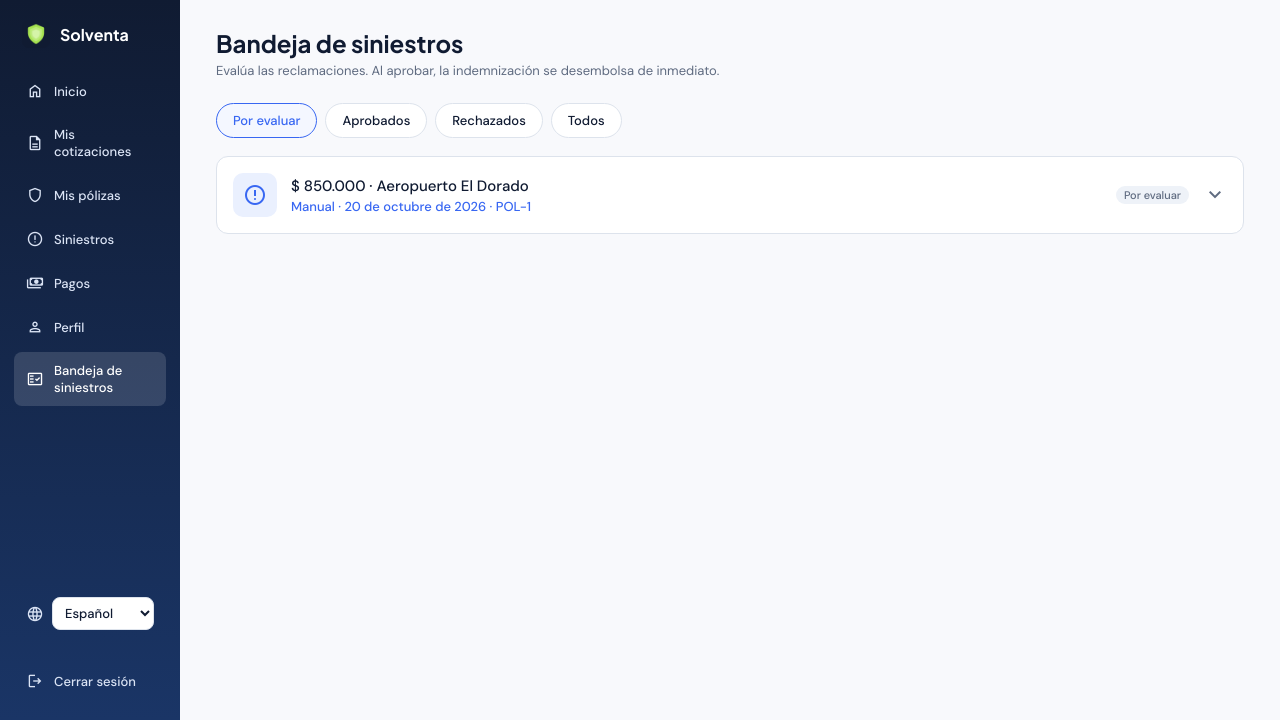
Scenario: aprueba con el monto propuesto y recarga la bandeja
Click the button "Aeropuerto El Dorado".
click(255, 195)  # box [217,157,1243,233]
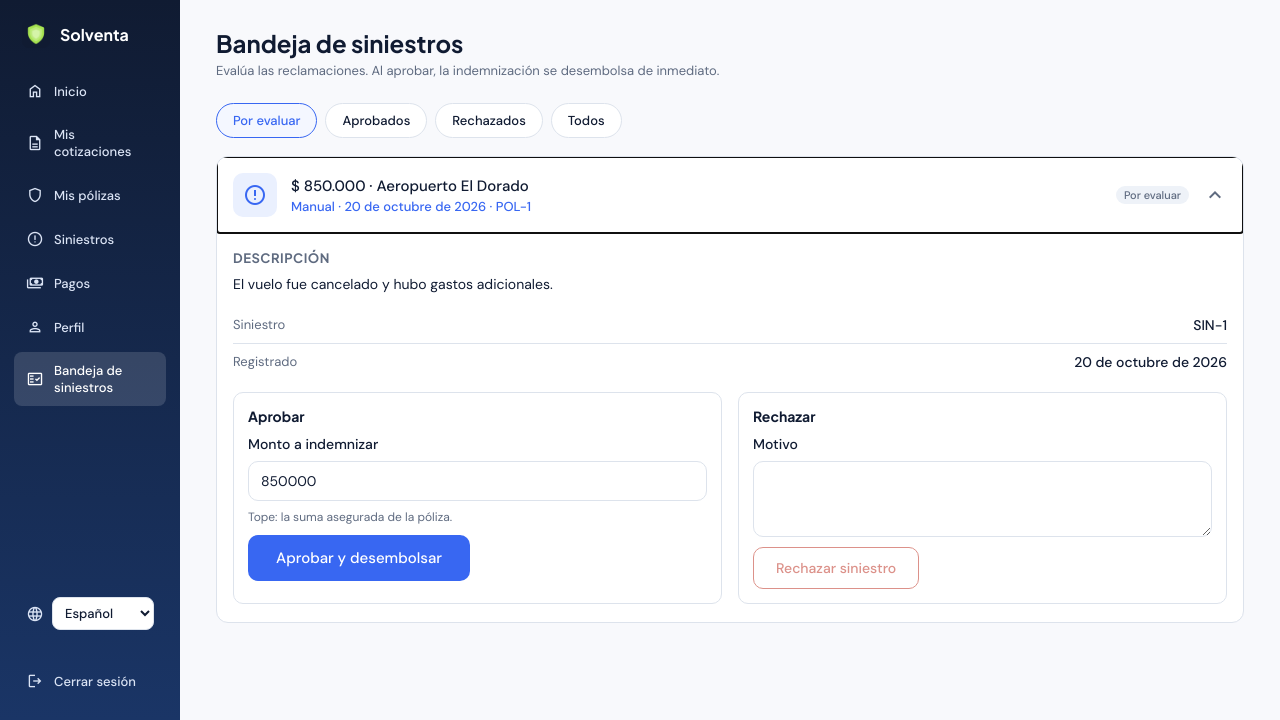
Expected: the number field labelled "Monto a indemnizar" holds "850000", [248,461,707,501]
Click the button "Aprobar y desembolsar".
click(359, 558)  # box [248,535,470,581]
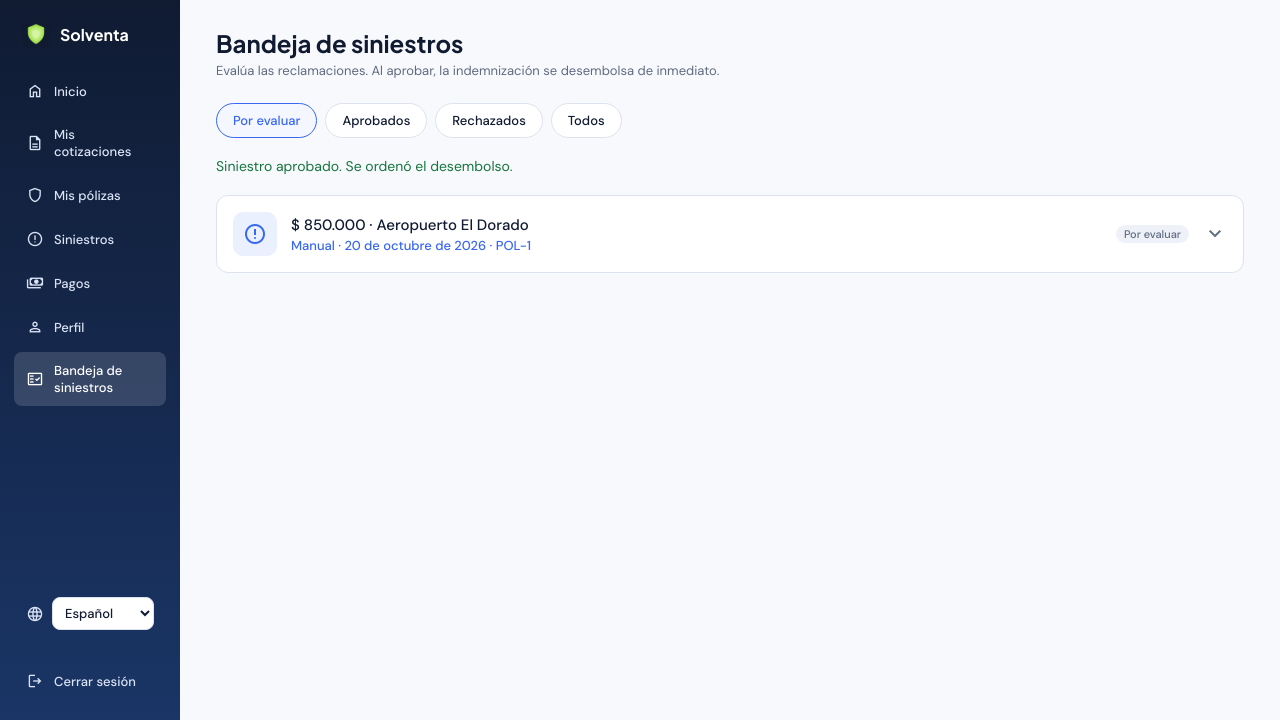
Expected: the text "Siniestro aprobado. Se ordenó el desembolso." is shown, [216,157,513,175]
